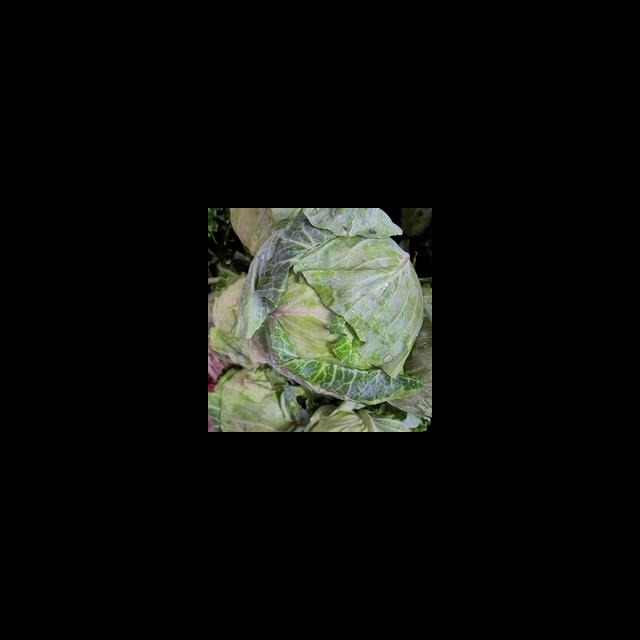cabbage: (236, 208, 424, 401)
